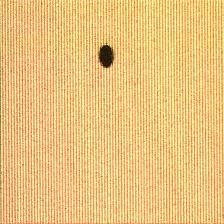PARTICLE: (96, 46, 119, 68)
